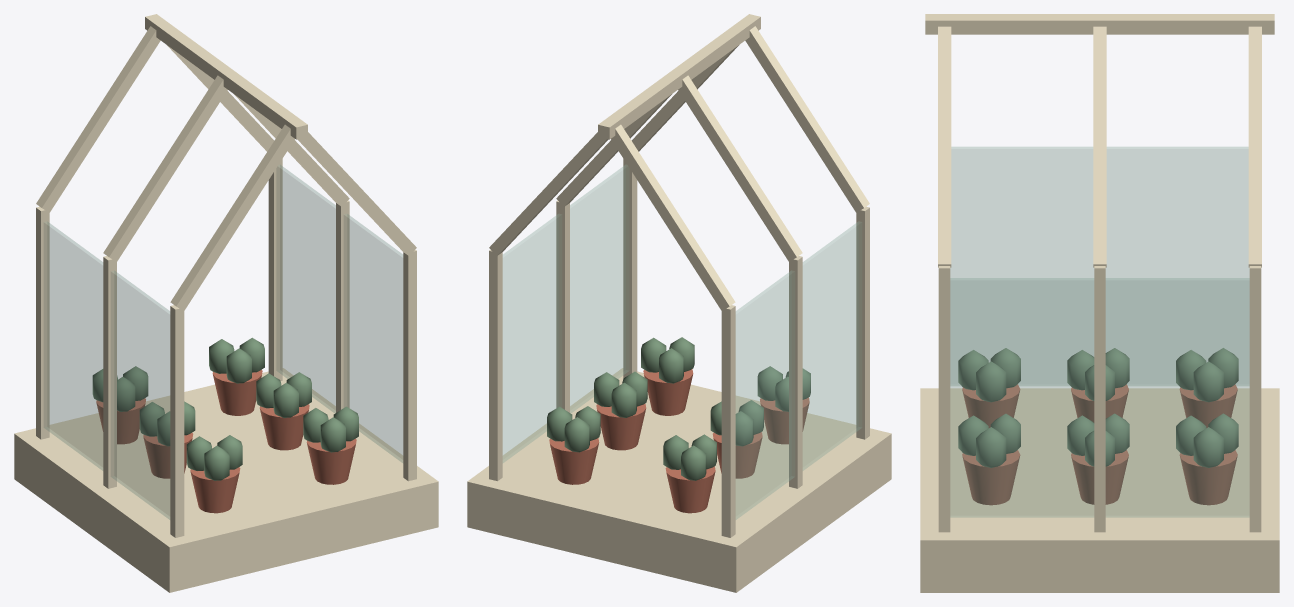
The model's file is greenhouse.glb.
3 views of the same model, side by side, from view 1: azimuth 30°, elevation 25°; view 2: azimuth 150°, elevation 25°; view 3: azimuth 270°, elevation 25° (orthographic). The views are drawn at different scales.
Parts seen in each view (by area): view 1: _MeshInstance3D_162, _MeshInstance3D_199, _MeshInstance3D_200, _MeshInstance3D_201, _MeshInstance3D_169, _MeshInstance3D_179, _MeshInstance3D_189, _MeshInstance3D_165, _MeshInstance3D_164, _MeshInstance3D_163, _MeshInstance3D_168, _MeshInstance3D_166 (+20 smaller); view 2: _MeshInstance3D_162, _MeshInstance3D_199, _MeshInstance3D_200, _MeshInstance3D_201, _MeshInstance3D_179, _MeshInstance3D_189, _MeshInstance3D_169, _MeshInstance3D_163, _MeshInstance3D_164, _MeshInstance3D_165, _MeshInstance3D_166, _MeshInstance3D_168 (+20 smaller); view 3: _MeshInstance3D_200, _MeshInstance3D_199, _MeshInstance3D_162, _MeshInstance3D_201, _MeshInstance3D_166, _MeshInstance3D_168, _MeshInstance3D_180, _MeshInstance3D_170, _MeshInstance3D_190, _MeshInstance3D_167, _MeshInstance3D_175, _MeshInstance3D_195 (+22 smaller).
Part boxes in pixels (x1=…): _MeshInstance3D_162: x1=14, y1=368, x2=438, y2=592; _MeshInstance3D_199: x1=44, y1=221, x2=169, y2=519; _MeshInstance3D_200: x1=276, y1=165, x2=402, y2=462; _MeshInstance3D_201: x1=145, y1=14, x2=307, y2=139; _MeshInstance3D_169: x1=36, y1=26, x2=160, y2=212; _MeshInstance3D_179: x1=103, y1=75, x2=227, y2=261; _MeshInstance3D_189: x1=170, y1=124, x2=294, y2=310; _MeshInstance3D_165: x1=170, y1=305, x2=184, y2=537; _MeshInstance3D_164: x1=103, y1=256, x2=116, y2=488; _MeshInstance3D_163: x1=36, y1=206, x2=49, y2=439; _MeshInstance3D_168: x1=403, y1=249, x2=416, y2=481; _MeshInstance3D_166: x1=268, y1=159, x2=282, y2=380; _MeshInstance3D_162: x1=467, y1=368, x2=891, y2=592; _MeshInstance3D_199: x1=736, y1=221, x2=861, y2=519; _MeshInstance3D_200: x1=503, y1=165, x2=629, y2=462; _MeshInstance3D_201: x1=598, y1=14, x2=760, y2=139; _MeshInstance3D_179: x1=678, y1=75, x2=802, y2=261; _MeshInstance3D_189: x1=745, y1=26, x2=869, y2=212; _MeshInstance3D_169: x1=611, y1=124, x2=735, y2=310; _MeshInstance3D_163: x1=721, y1=305, x2=735, y2=537; _MeshInstance3D_164: x1=789, y1=256, x2=802, y2=488; _MeshInstance3D_165: x1=856, y1=206, x2=869, y2=439; _MeshInstance3D_166: x1=489, y1=249, x2=502, y2=481; _MeshInstance3D_168: x1=623, y1=159, x2=637, y2=378; _MeshInstance3D_200: x1=950, y1=278, x2=1249, y2=517; _MeshInstance3D_199: x1=950, y1=147, x2=1249, y2=385; _MeshInstance3D_162: x1=920, y1=388, x2=1279, y2=592; _MeshInstance3D_201: x1=925, y1=14, x2=1274, y2=34; _MeshInstance3D_166: x1=1249, y1=266, x2=1261, y2=532; _MeshInstance3D_168: x1=938, y1=266, x2=950, y2=532; _MeshInstance3D_180: x1=1093, y1=26, x2=1106, y2=267; _MeshInstance3D_170: x1=1248, y1=26, x2=1261, y2=267; _MeshInstance3D_190: x1=938, y1=26, x2=951, y2=267; _MeshInstance3D_167: x1=1094, y1=266, x2=1105, y2=532; _MeshInstance3D_175: x1=1179, y1=450, x2=1237, y2=505; _MeshInstance3D_195: x1=962, y1=450, x2=1020, y2=505.
Bounding box in the file's own units: 1.85 × 2.84 × 1.85.
